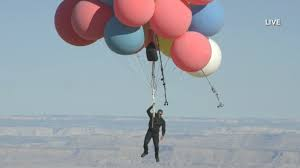Balloon: (171, 31, 211, 72), (71, 1, 112, 41), (104, 15, 144, 54), (151, 1, 192, 36), (113, 1, 154, 26)
